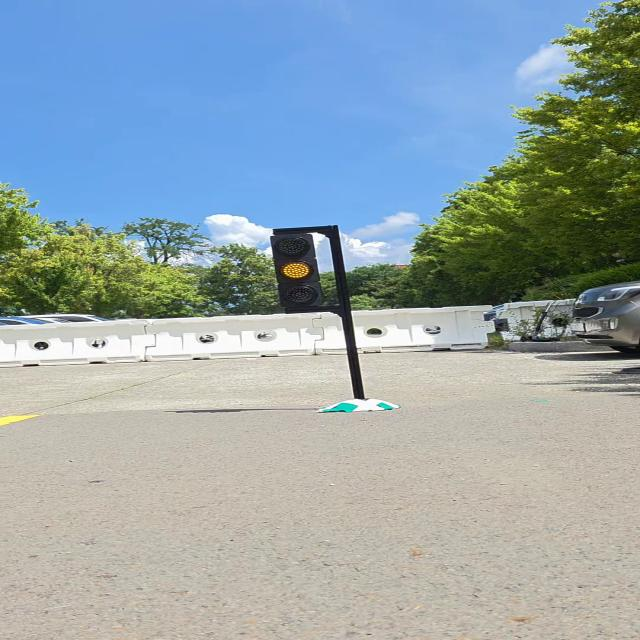yellow: (268, 233, 327, 308)
